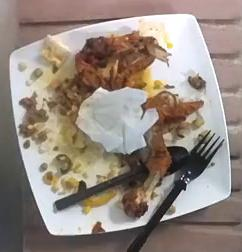rice_mix: (19, 80, 85, 176)
taco_mix: (74, 31, 166, 89)
